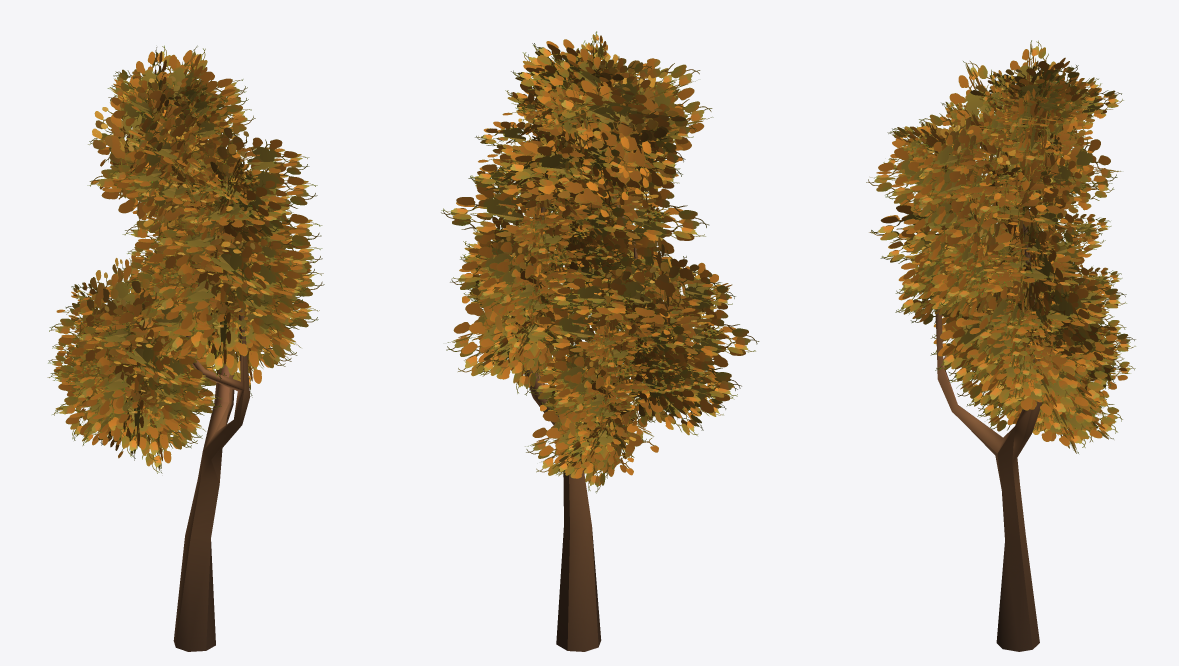
Rendered from Tree_2D.fbx.
The picture shows the model from 3 angles, left to right: view 1: azimuth 30°, elevation 25°; view 2: azimuth 150°, elevation 25°; view 3: azimuth 270°, elevation 25°; orthographic projection. The views are drawn at different scales.
Parts seen in each view (by area): view 1: Tree_2D; view 2: Tree_2D; view 3: Tree_2D.
Boxes of the visible parts, <box> form: Tree_2D: <box>47,45,324,651</box>; Tree_2D: <box>441,31,759,651</box>; Tree_2D: <box>866,40,1135,651</box>.
Size of the model in its own units: 617 by 1096 by 561.
